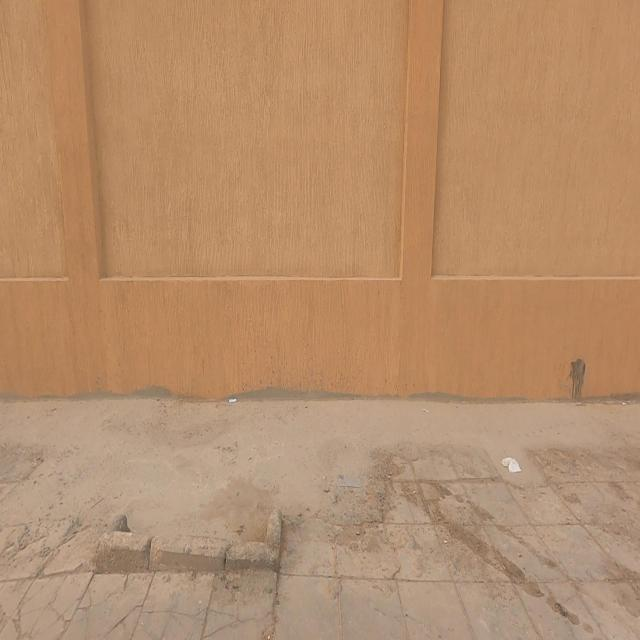debris: (466, 414, 542, 510)
